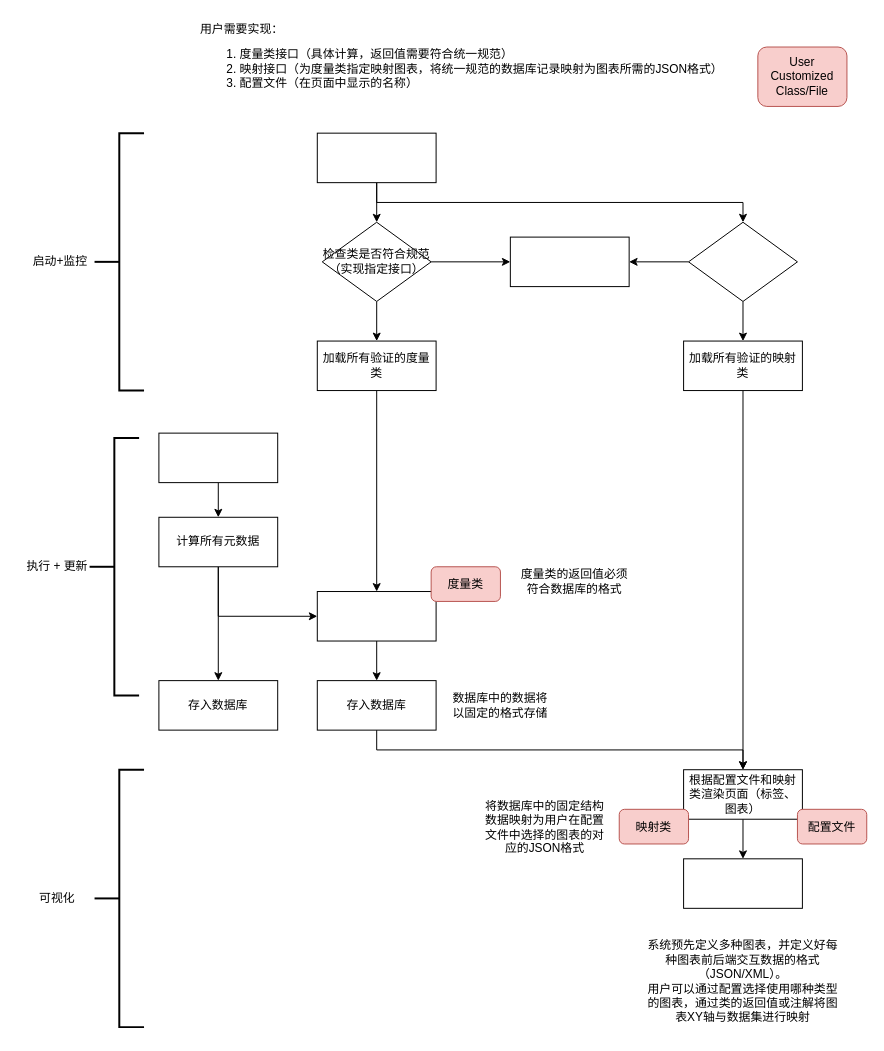
Image size: 884x1051. Some labels were removed from this diagram. Here are the shapes that lost their labels. From the top down, the centre of each, then its label:
At (x=376, y=157): "读取插件文件夹下的Jar包".
At (x=569, y=261): "异常提示".
At (x=742, y=261): "检查映射类是否符合规范".
At (x=218, y=457): "读取目标工程文件".
At (x=376, y=616): "执行度量类，生成记录".
At (x=742, y=883): "前端页面".
